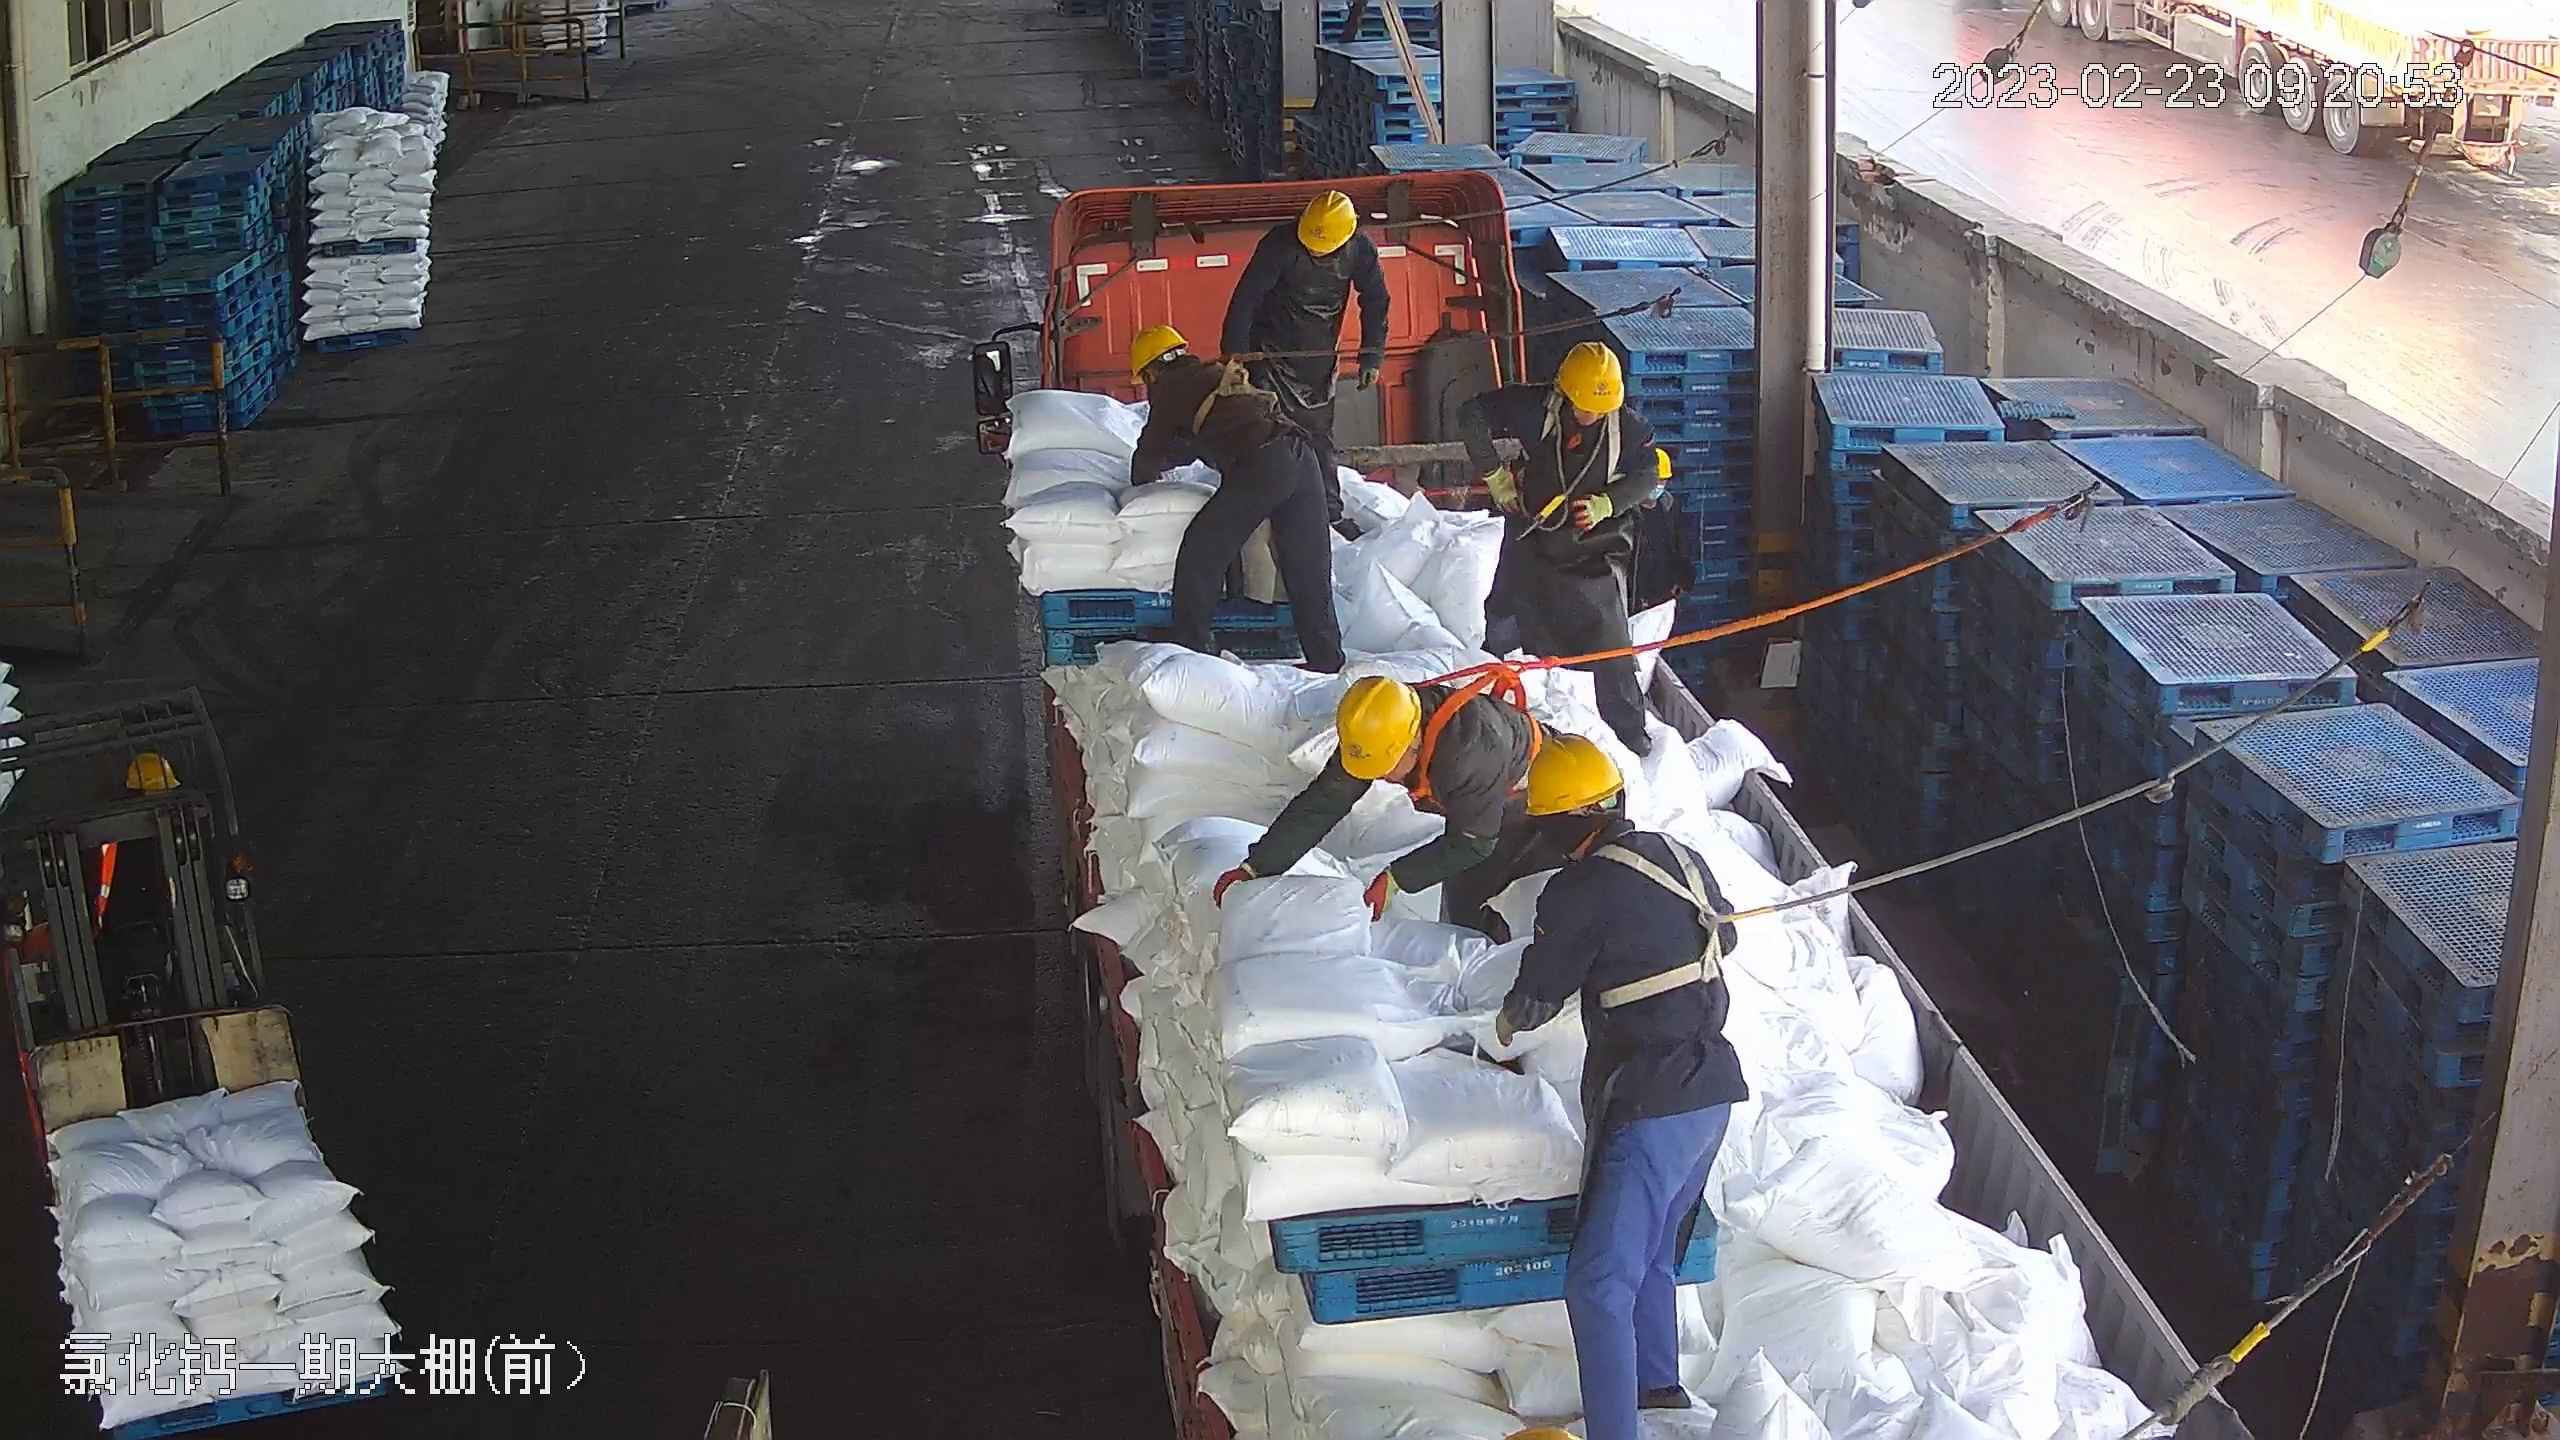belt: (1586, 836, 1741, 1020), (1405, 651, 1556, 821), (1526, 382, 1638, 478), (1182, 343, 1291, 433)
head: (1516, 729, 1734, 906), (1325, 672, 1503, 796), (1505, 340, 1656, 472), (1239, 185, 1379, 297), (1128, 321, 1271, 409)
helmet: (1331, 676, 1421, 775), (1519, 731, 1621, 814), (1553, 336, 1632, 414), (1295, 185, 1364, 252), (1126, 319, 1197, 379)
people: (1508, 735, 1754, 1435), (1488, 331, 1675, 773), (1127, 316, 1353, 669)
truck: (957, 164, 2258, 1426)
